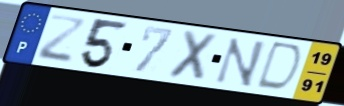5: (77, 17, 132, 70)
7: (133, 24, 176, 75)
D: (252, 40, 306, 94)
N: (212, 36, 269, 89)
X: (164, 28, 221, 85)
Z: (34, 12, 89, 65)
